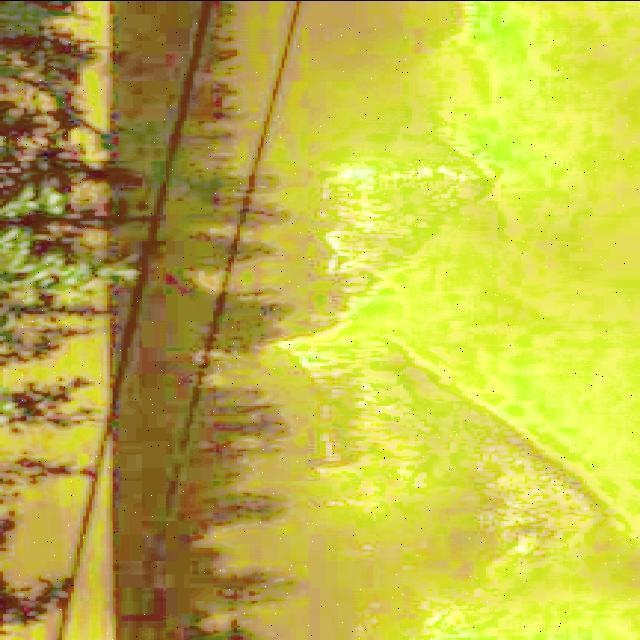api: (418, 595, 487, 640), (271, 332, 331, 382), (332, 166, 474, 186), (321, 227, 363, 281), (313, 495, 381, 519)
asap: (338, 2, 640, 380), (496, 583, 640, 640)
